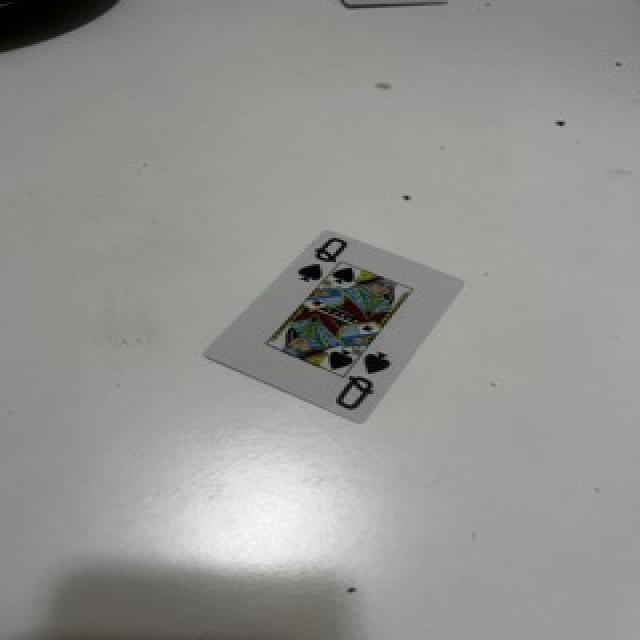Queen of spades: (208, 231, 463, 422)
